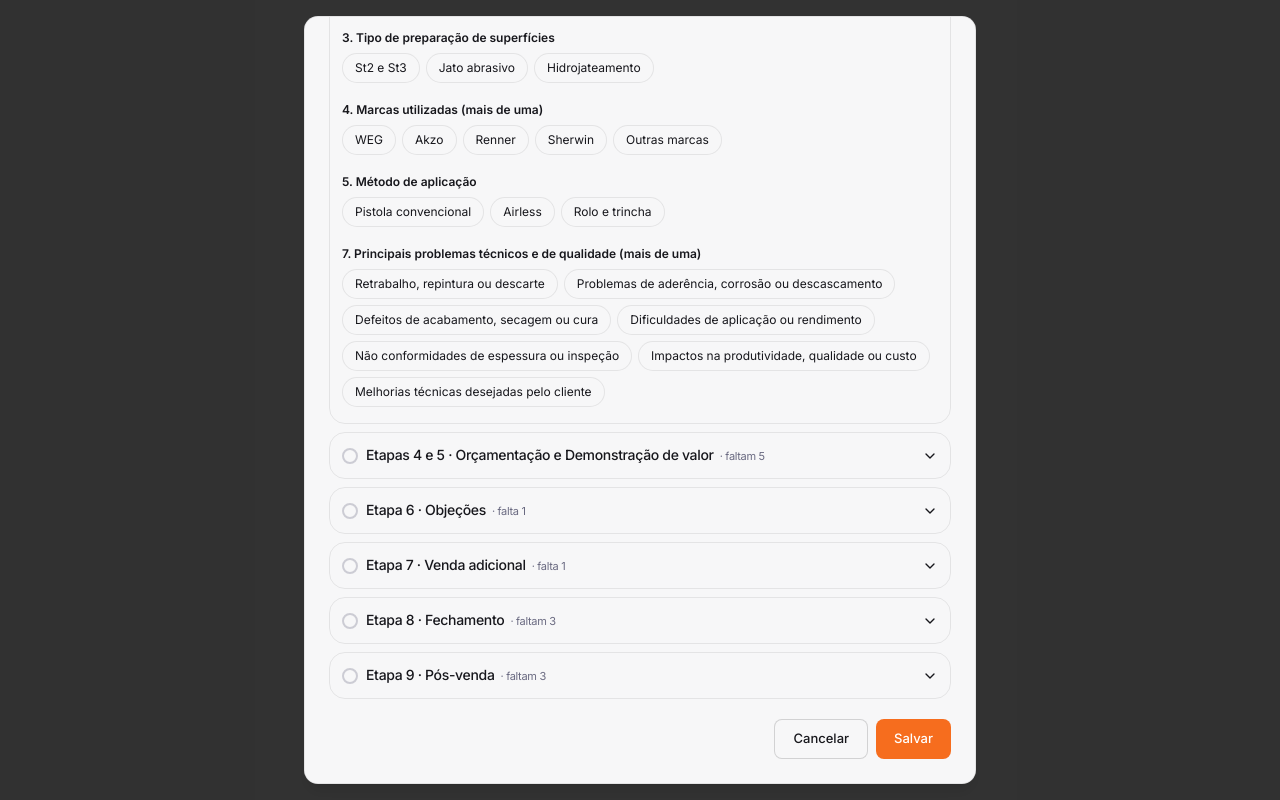
Scenario: LeadQualificationDialog › requires an explanation for a low post-sale rating
Later steps or results of the test are not shown.
(page scrolled)
Click the button "Etapa 9 · Pós-venda· faltam 3": (430, 674) [342,653,938,698]
(page scrolled)
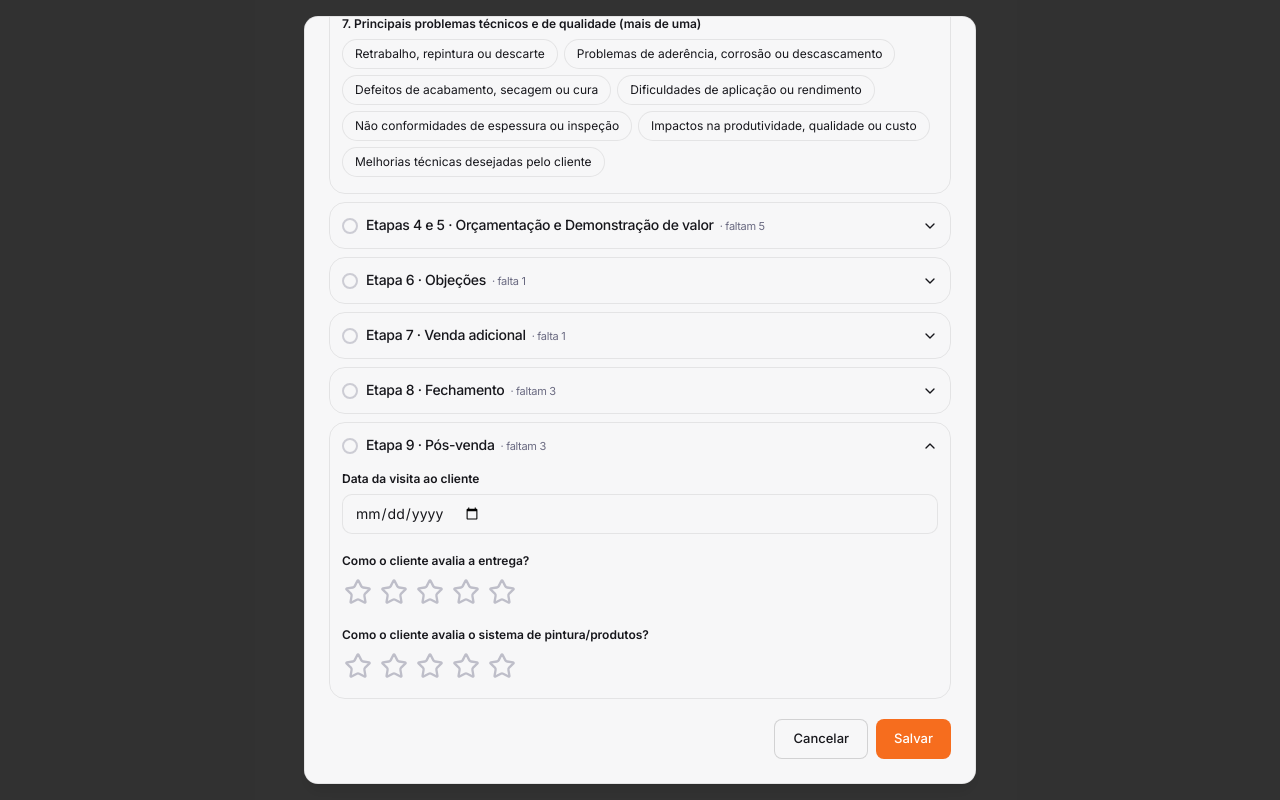
Click the radio button named "2 estrelas" below "Como o cliente avalia a entrega?": (394, 592) [378,576,410,608]
(page scrolled)
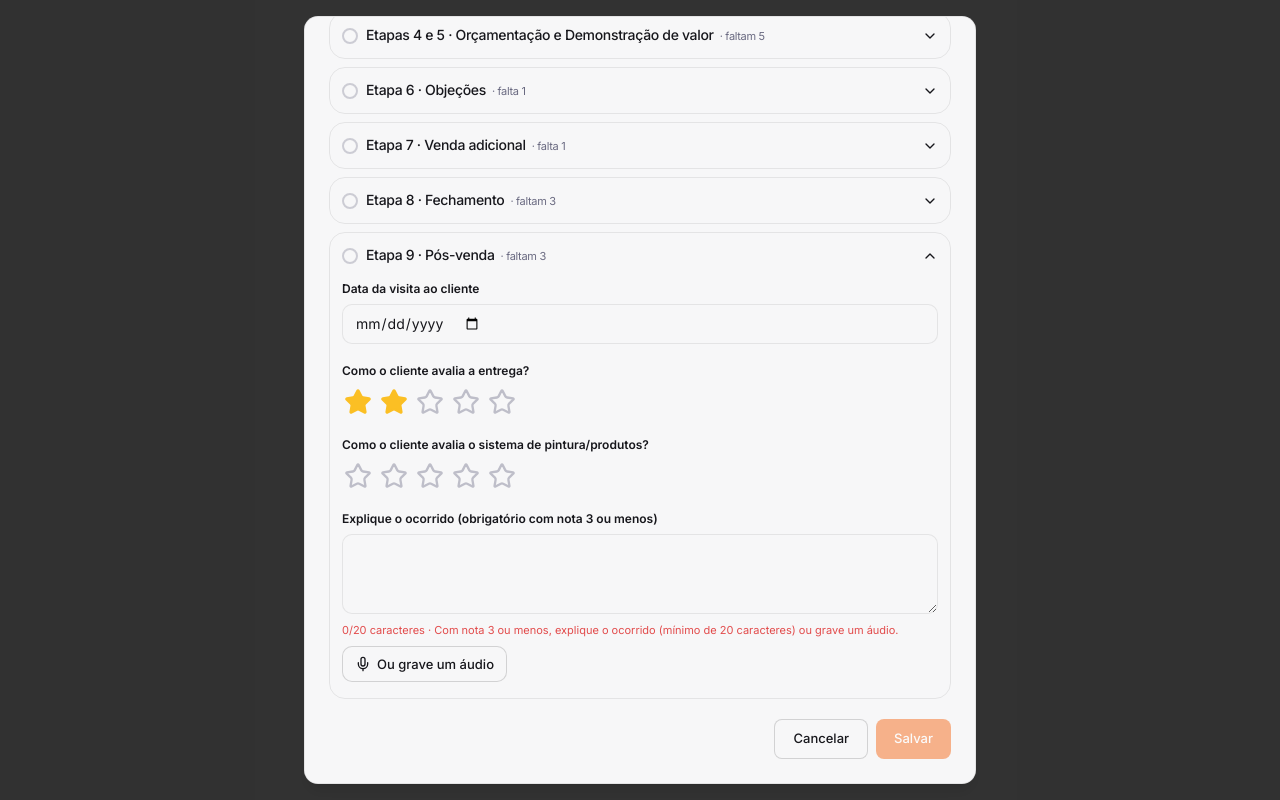
Expected: the button "Salvar" is disabled, [876,719,951,759]
In the text box named "Observação do pós-venda": (640, 574) [342,534,938,614], type "A entrega atrasou três dias."
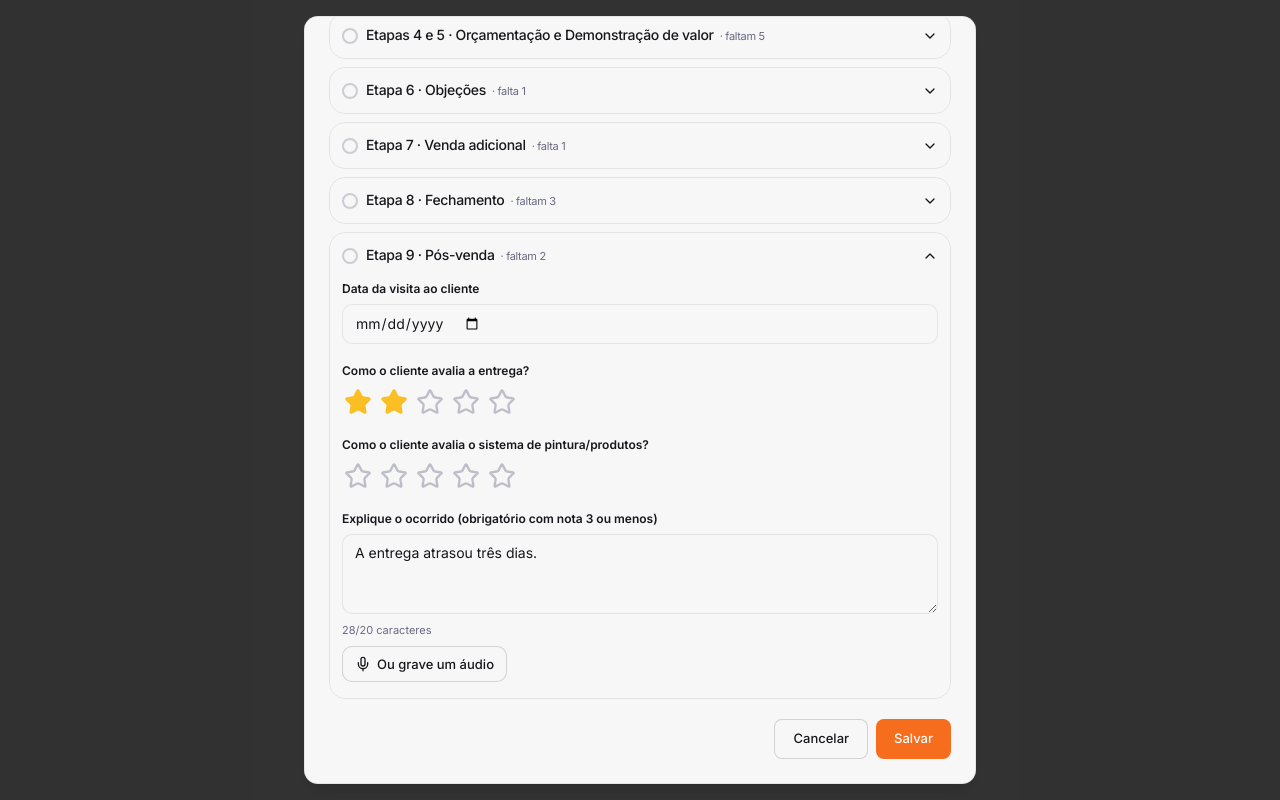
Expected: the button "Salvar" is enabled, [876,719,951,759]
